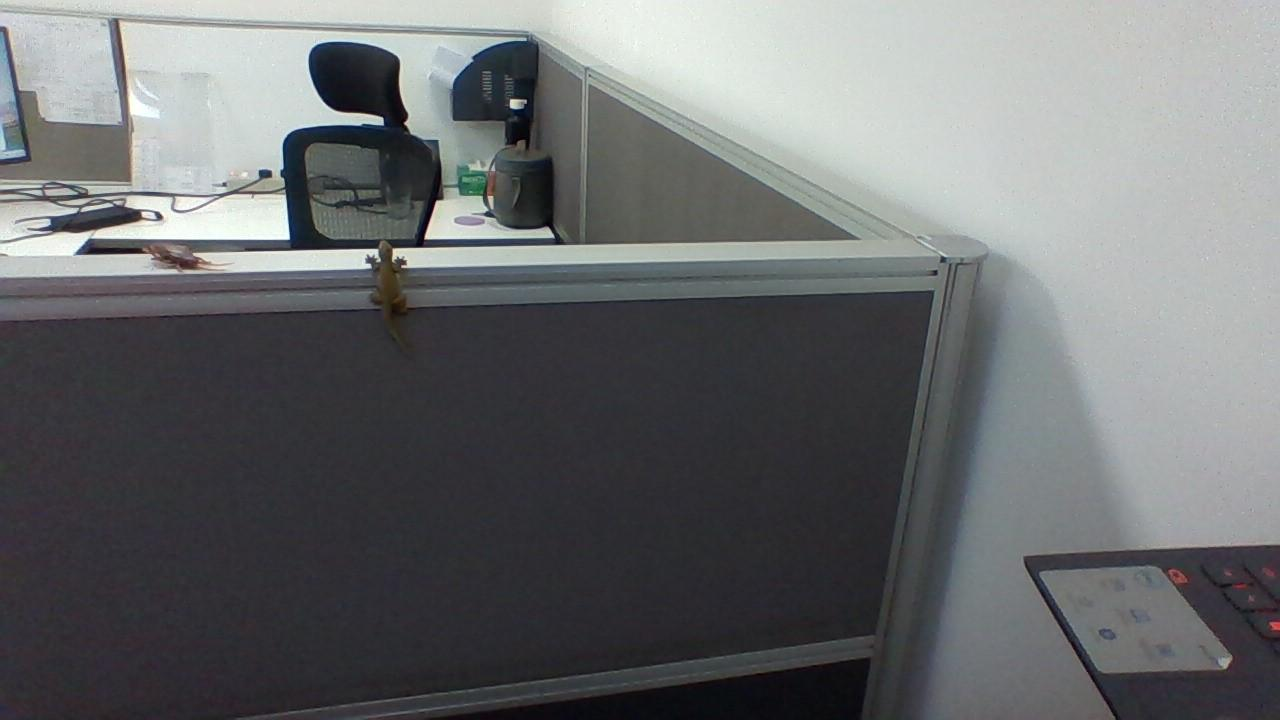cockroach: (135, 233, 246, 289)
lizard: (360, 235, 429, 364)
